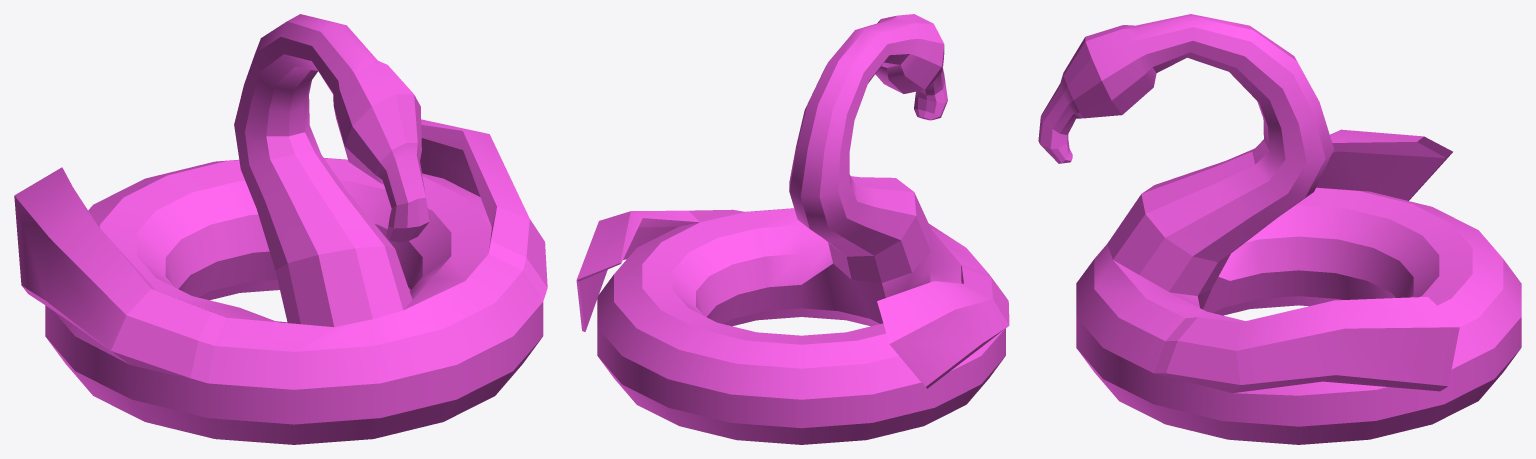
The model's file is Flamantrose.fbx.
3 views of the same model, side by side, from view 1: azimuth 30°, elevation 25°; view 2: azimuth 150°, elevation 25°; view 3: azimuth 270°, elevation 25° (orthographic). The views are drawn at different scales.
Visible parts, largest first — view 1: FlamantRose; view 2: FlamantRose; view 3: FlamantRose.
Boxes of the visible parts, <box> form: FlamantRose: <box>14,14,547,444</box>; FlamantRose: <box>576,14,1009,444</box>; FlamantRose: <box>1038,14,1521,444</box>.
Bounding box in the file's own units: 189 × 150 × 190.
